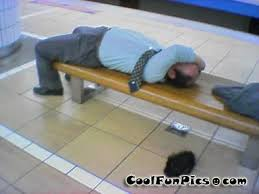collapsed: (6, 11, 216, 104)
